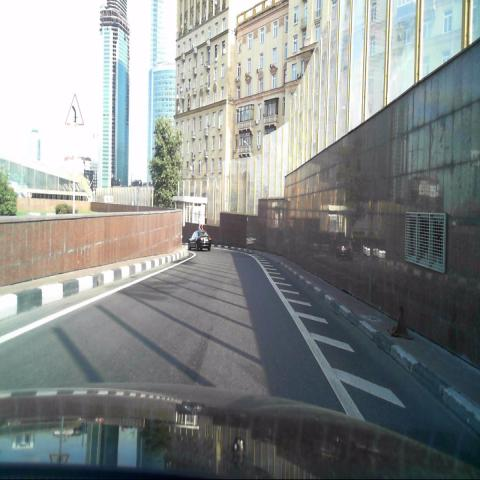1_11_1: (64, 94, 84, 127)
